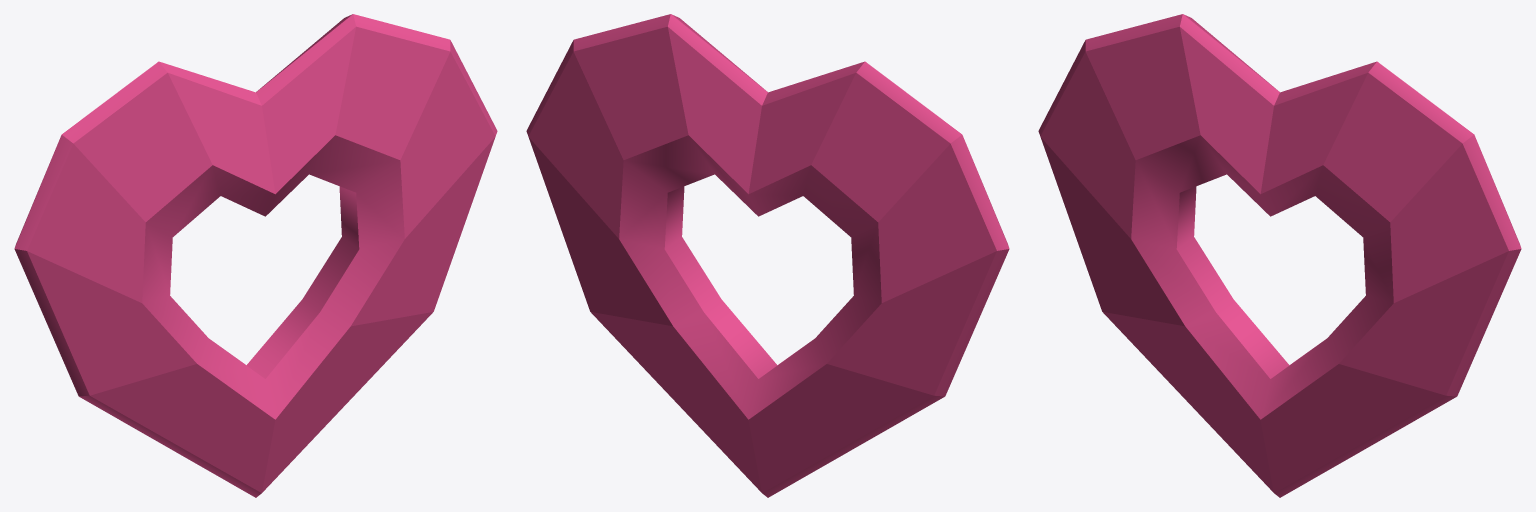
The model's file is heart container.fbx.
3 views of the same model, side by side, from view 1: azimuth 30°, elevation 25°; view 2: azimuth 150°, elevation 25°; view 3: azimuth 330°, elevation 25° (orthographic).
Parts seen in each view (by area): view 1: Heart Upgrade; view 2: Heart Upgrade; view 3: Heart Upgrade.
Boxes of the visible parts, x1,y1,x2,y2 form: Heart Upgrade: (14, 14, 497, 497); Heart Upgrade: (526, 14, 1009, 497); Heart Upgrade: (1038, 14, 1521, 497).
Size of the model in its own units: 194 by 177 by 27.02.
